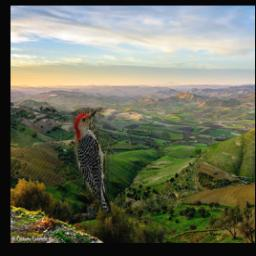Woodpecker: (75, 108, 116, 215)
